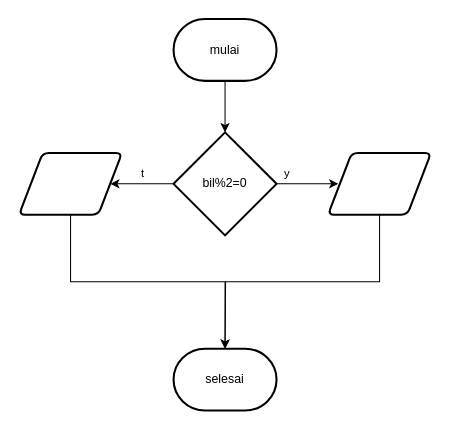
This 449x428 diagram has some shape labels left out. Here are the shapes that lost their labels. From the top down, the centre of each, then its label:
point 70,183: ganjil
point 379,183: genap
